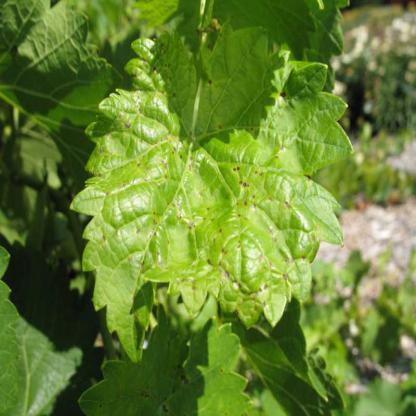grape leaf black rot: (70, 17, 366, 372)
